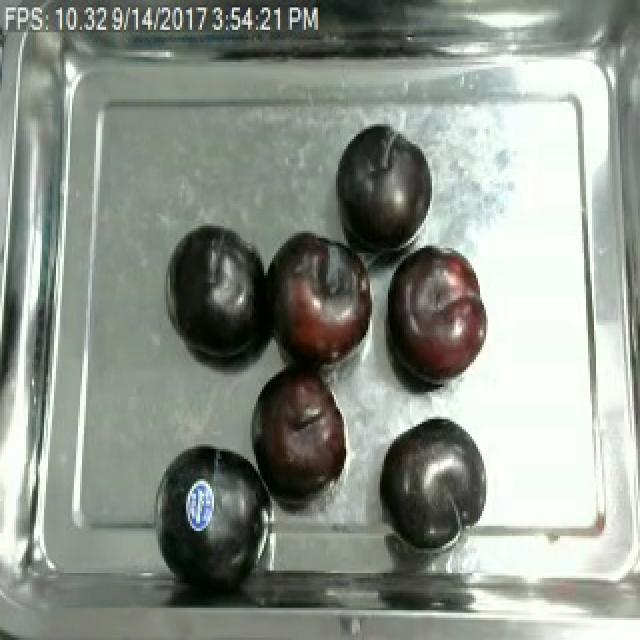Fruit: (142, 430, 274, 590), (250, 223, 380, 382), (236, 349, 360, 508), (382, 238, 492, 397), (374, 409, 492, 556), (164, 218, 276, 367), (330, 119, 434, 253)
